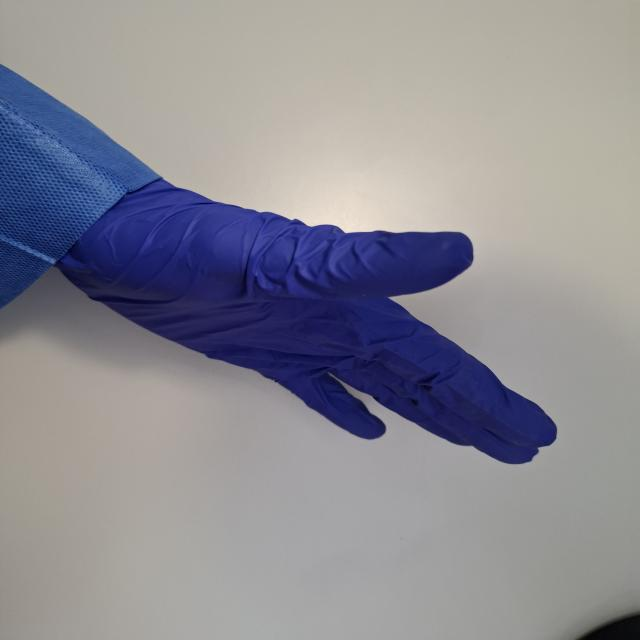glove_on: (44, 172, 564, 468)
